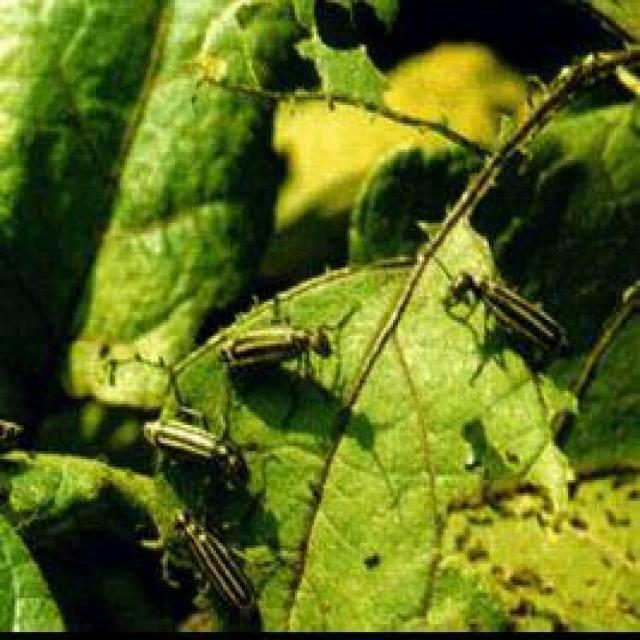BlisterBeetle-Adult-: (435, 243, 575, 372), (155, 499, 279, 616), (196, 311, 340, 383), (141, 396, 249, 491)
